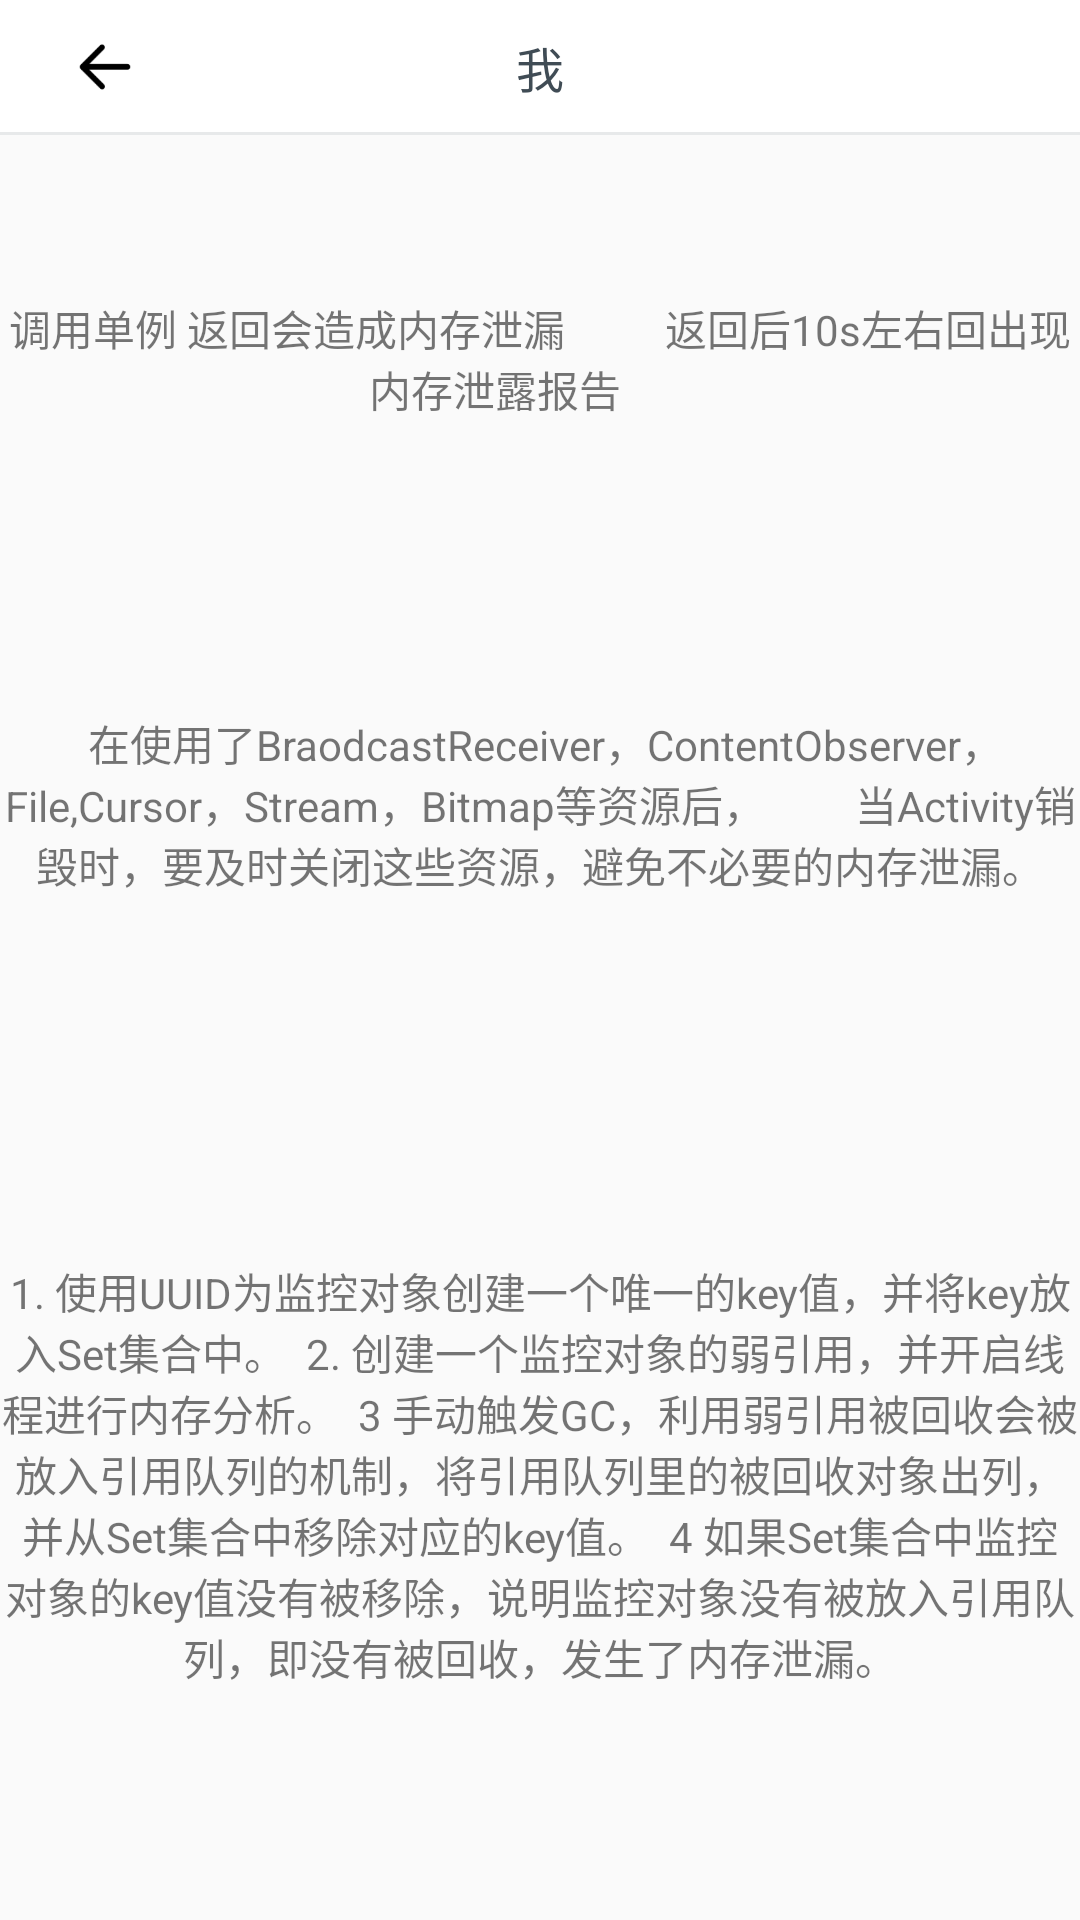

Where to tap for icons on this 1080w x 1920h app screen, as (x=x, y=y):
return: (x=105, y=67)
